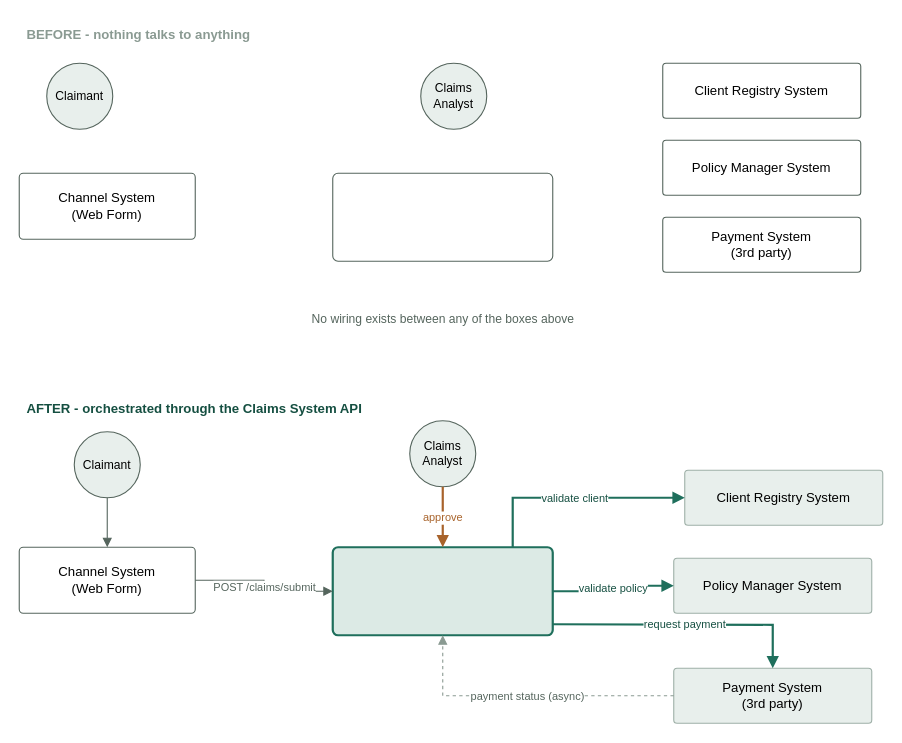
Image size: 902x743. Some labels were removed from this diagram. The box of each missing label's shape, as (x1, y1, x2, y2) in pixels:
Claims System (UI / API): (332, 172, 553, 261)
Claims System (UI / API) + orchestration: (331, 546, 553, 636)
